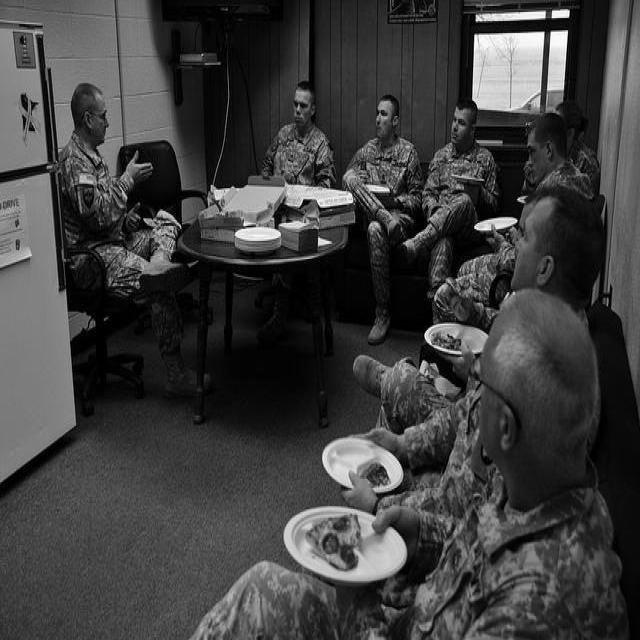vehicle: (506, 90, 564, 116)
